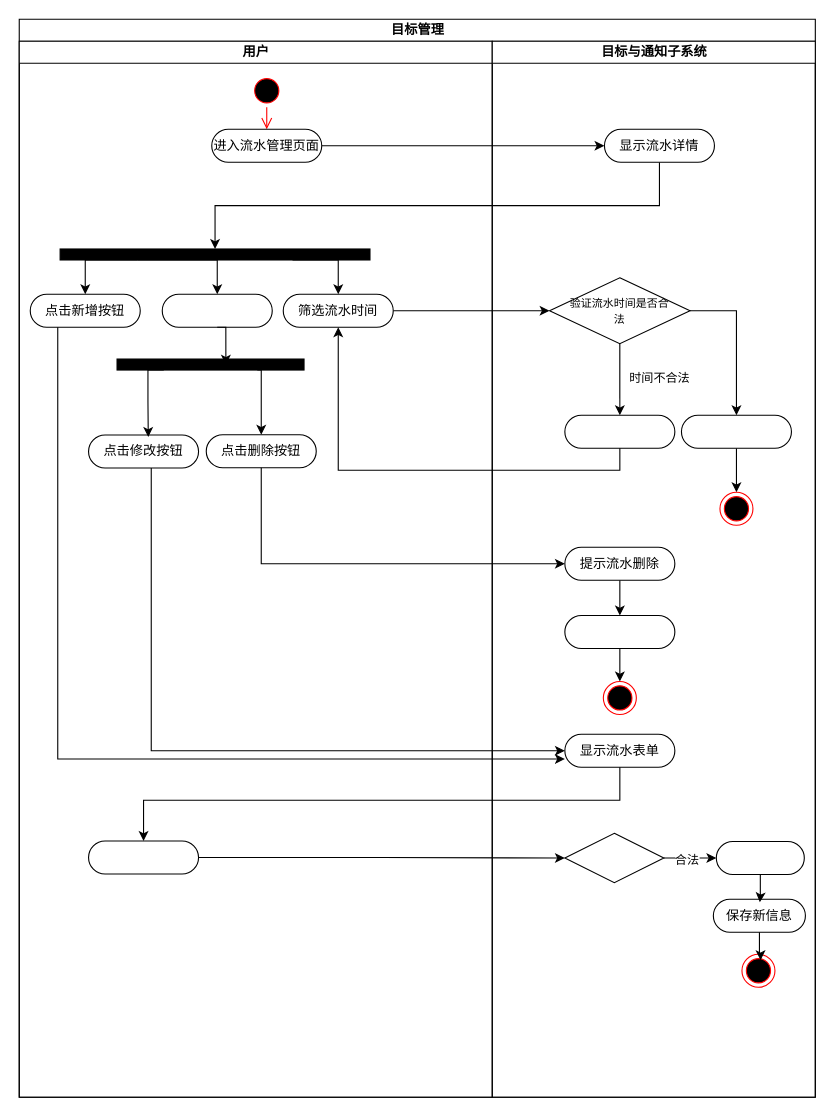
The diagram is 835 pixels wide and 1117 high, and some of its shapes have lost their labels. Here are the shapes that lost their labels. From the top down, the centre of each, then its label:
At point 216,310: "选中一条流水信息".
At point 619,431: "提示时间不合法".
At point 735,431: "显示流水信息".
At point 619,631: "删除流水".
At point 143,857: "填写流水表单".
At point 614,857: "验证是否合法".
At point 759,857: "提示流水变动".
